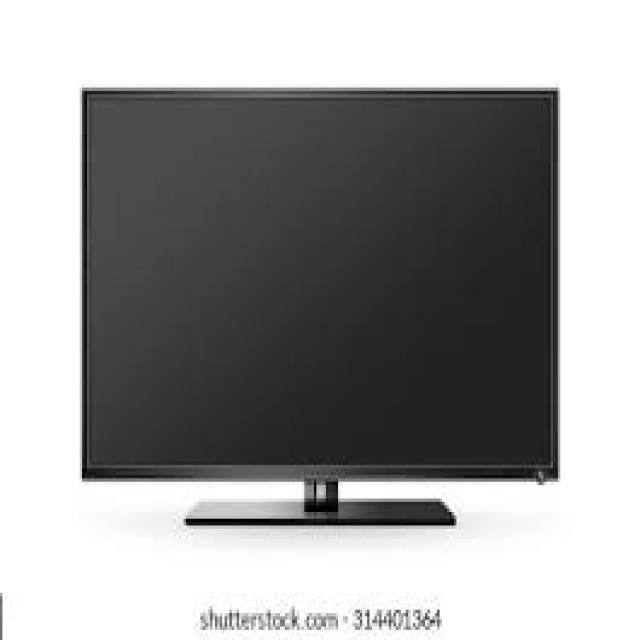tv: (74, 84, 572, 489)
